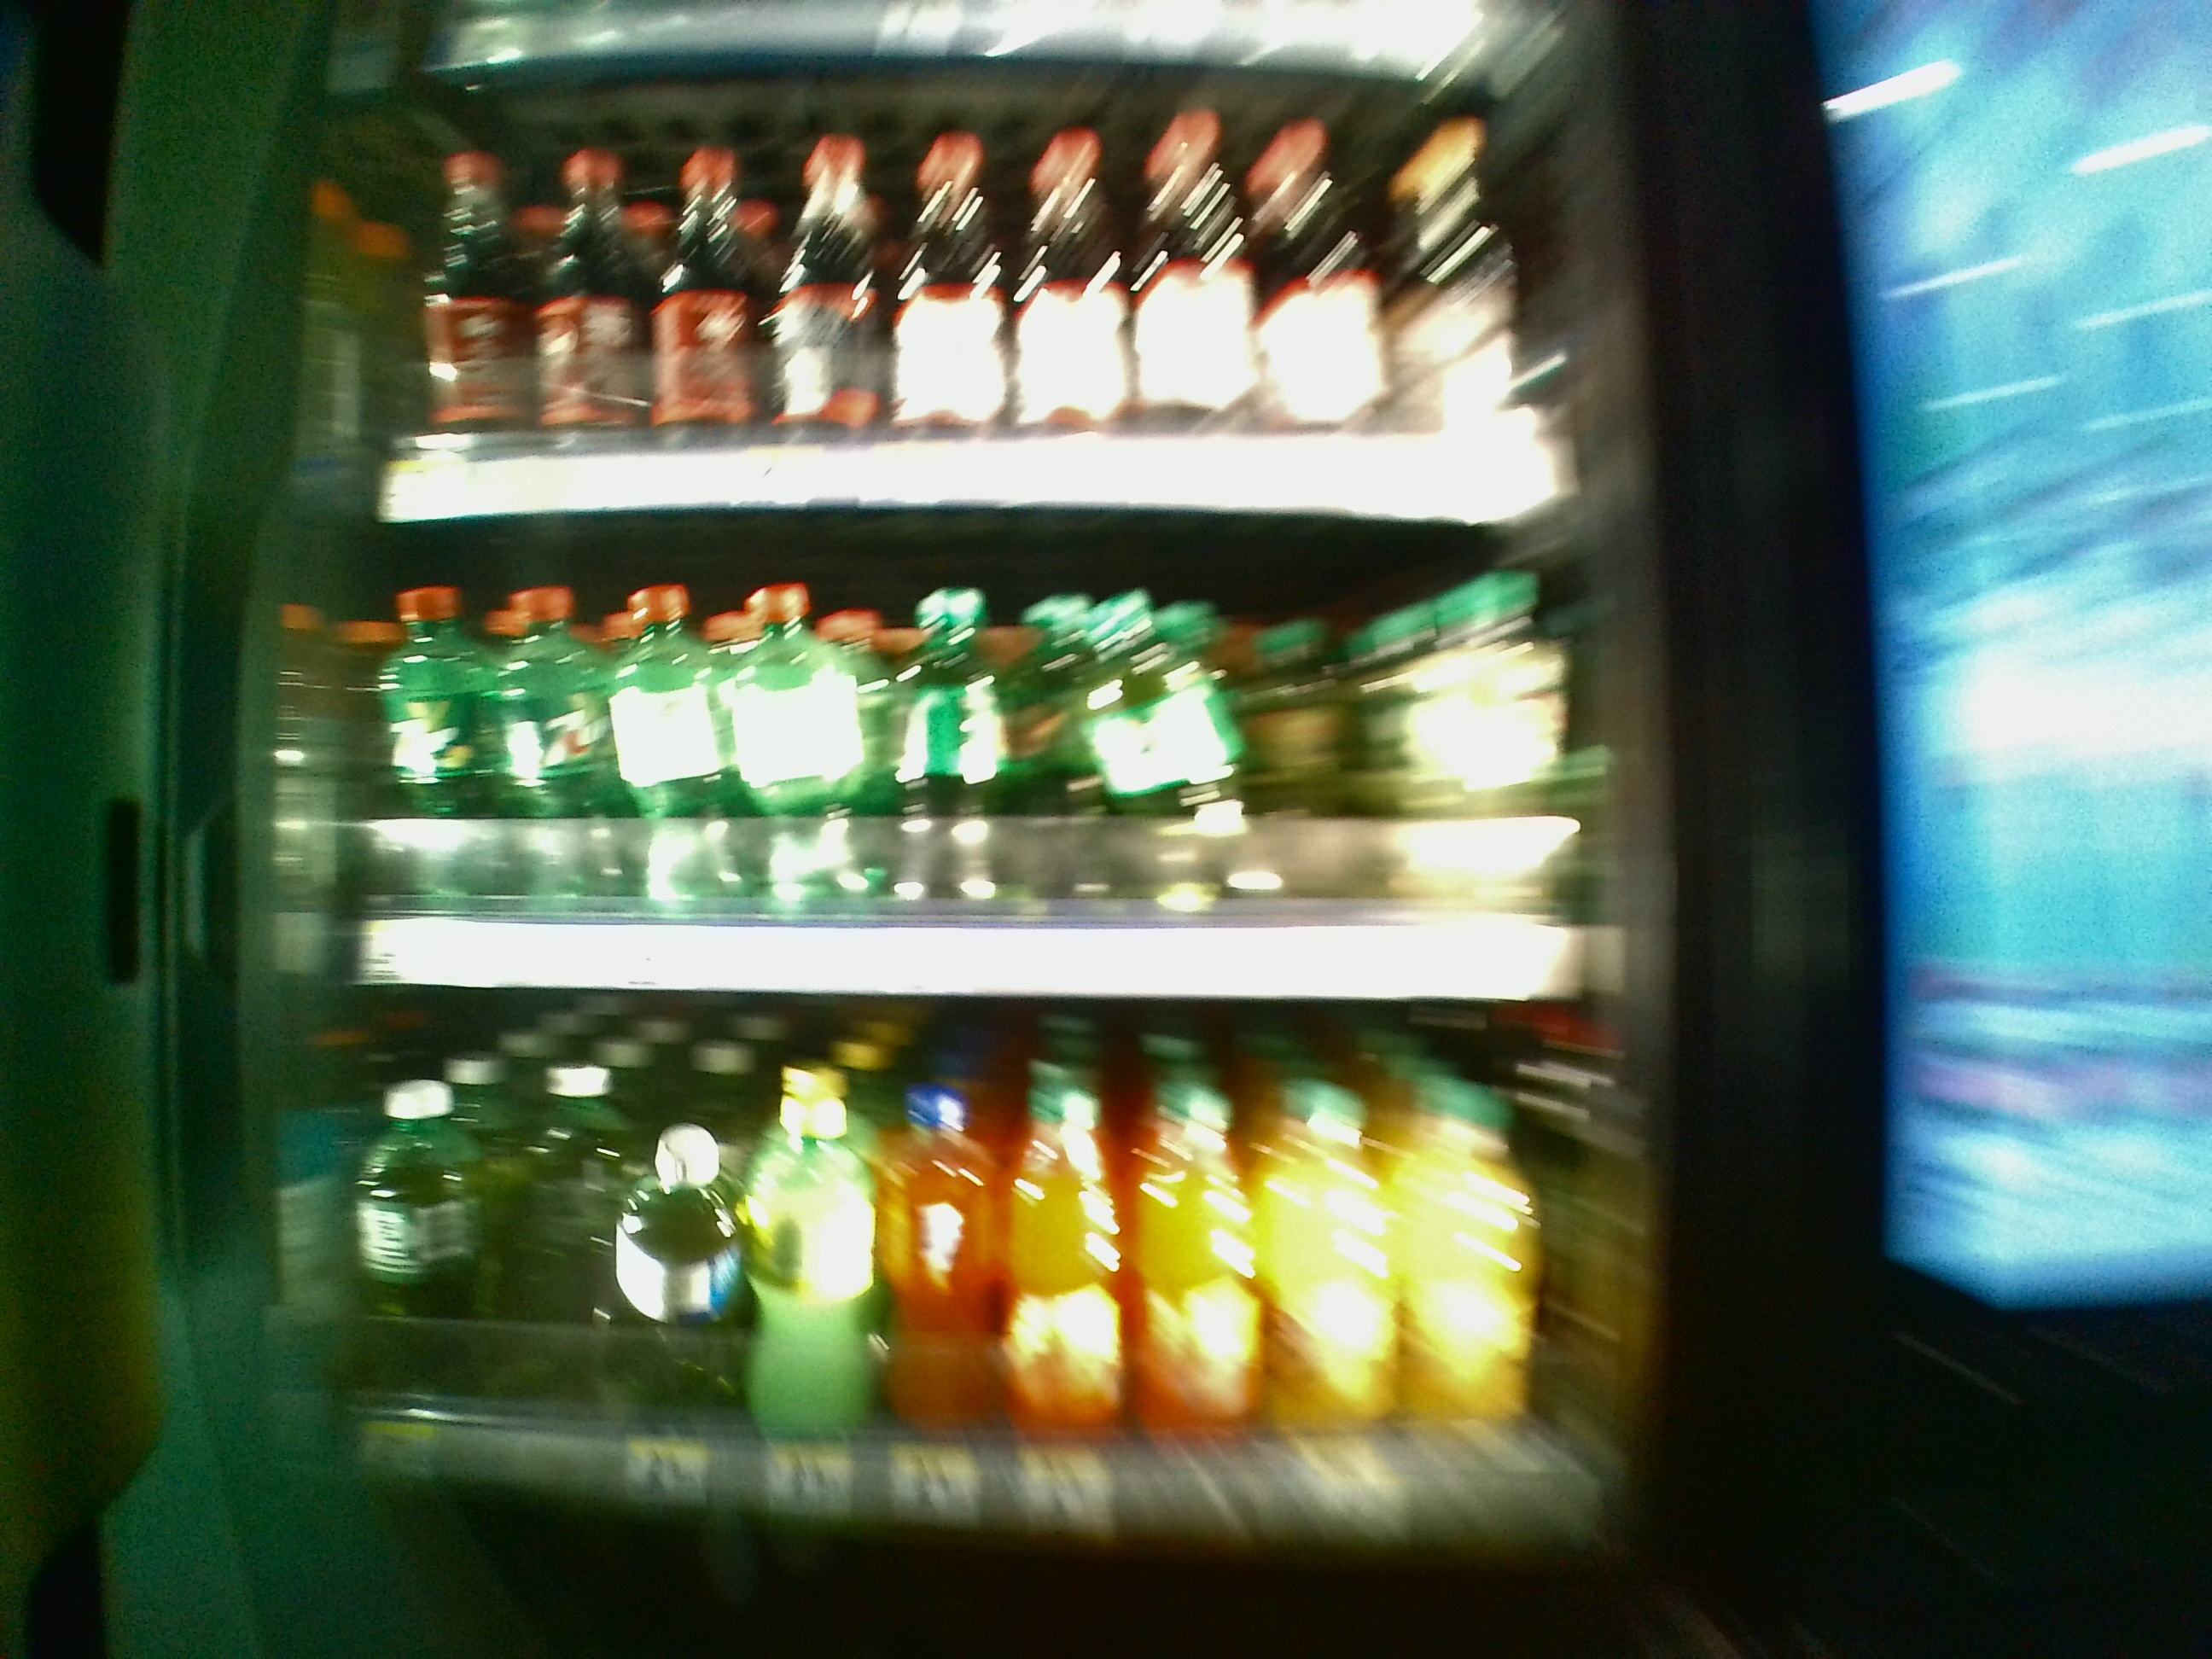shelf: (324, 1009, 1629, 1549), (324, 523, 1629, 1007)
